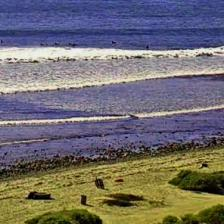surfer: (54, 42, 60, 46), (40, 43, 48, 46), (69, 43, 76, 46), (111, 41, 117, 44), (145, 45, 149, 49), (0, 40, 2, 43)
